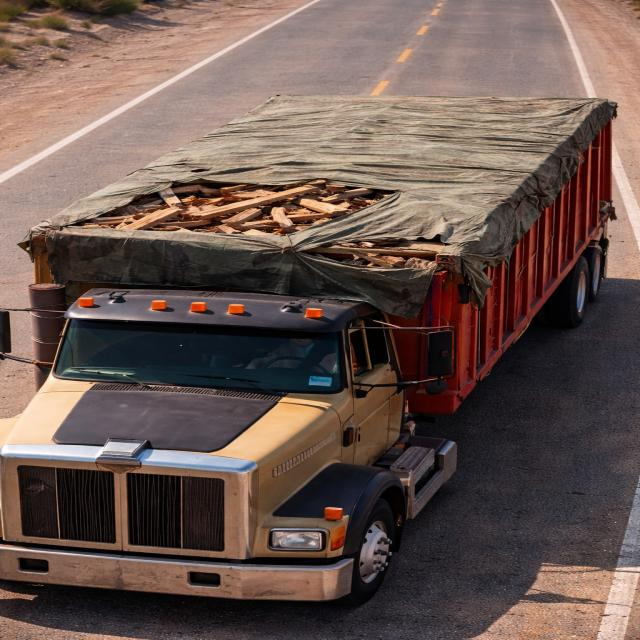Box: (34, 90, 619, 254)
Truck: (0, 80, 630, 614)
